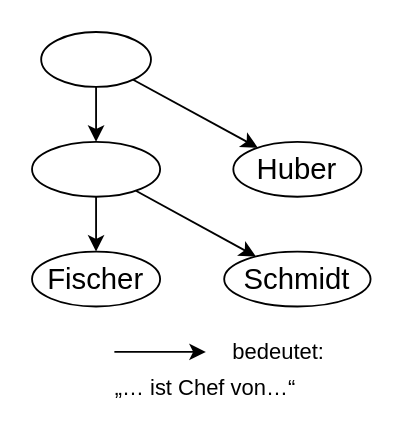
The diagram is 403 pixels wide and 448 high, and some of its shapes have lost their labels. Each missing label, with the centre of its shape:
Mayer: pixel 95 58
Müller: pixel 95 168
